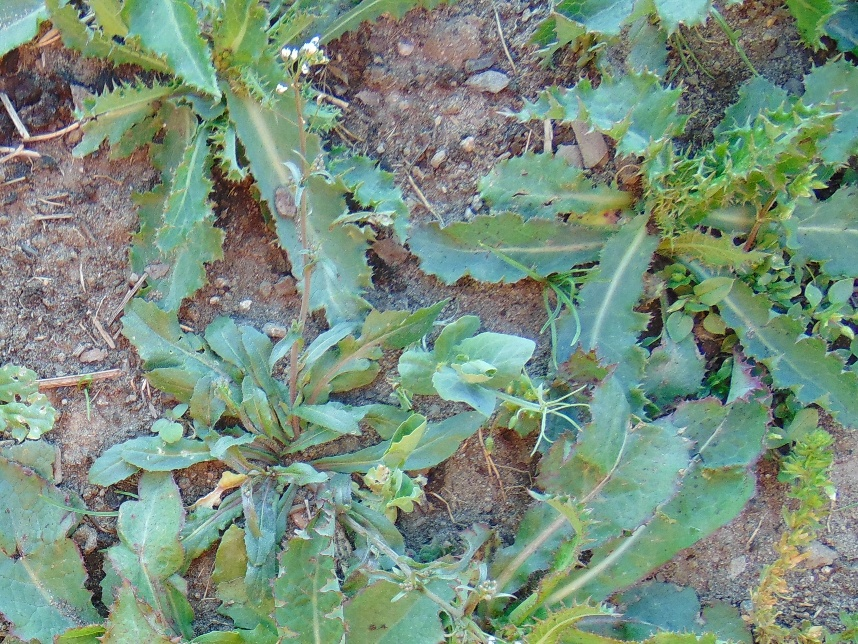crop: (402, 312, 554, 433), (364, 415, 425, 519), (662, 262, 690, 288)
weed: (2, 2, 857, 642)
